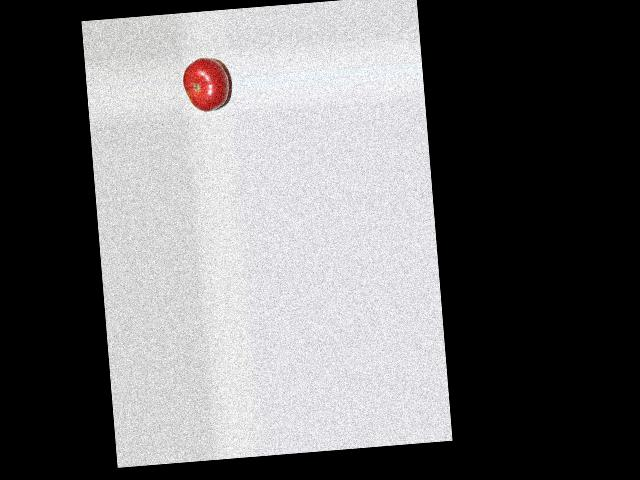tomato: (181, 55, 230, 113)
